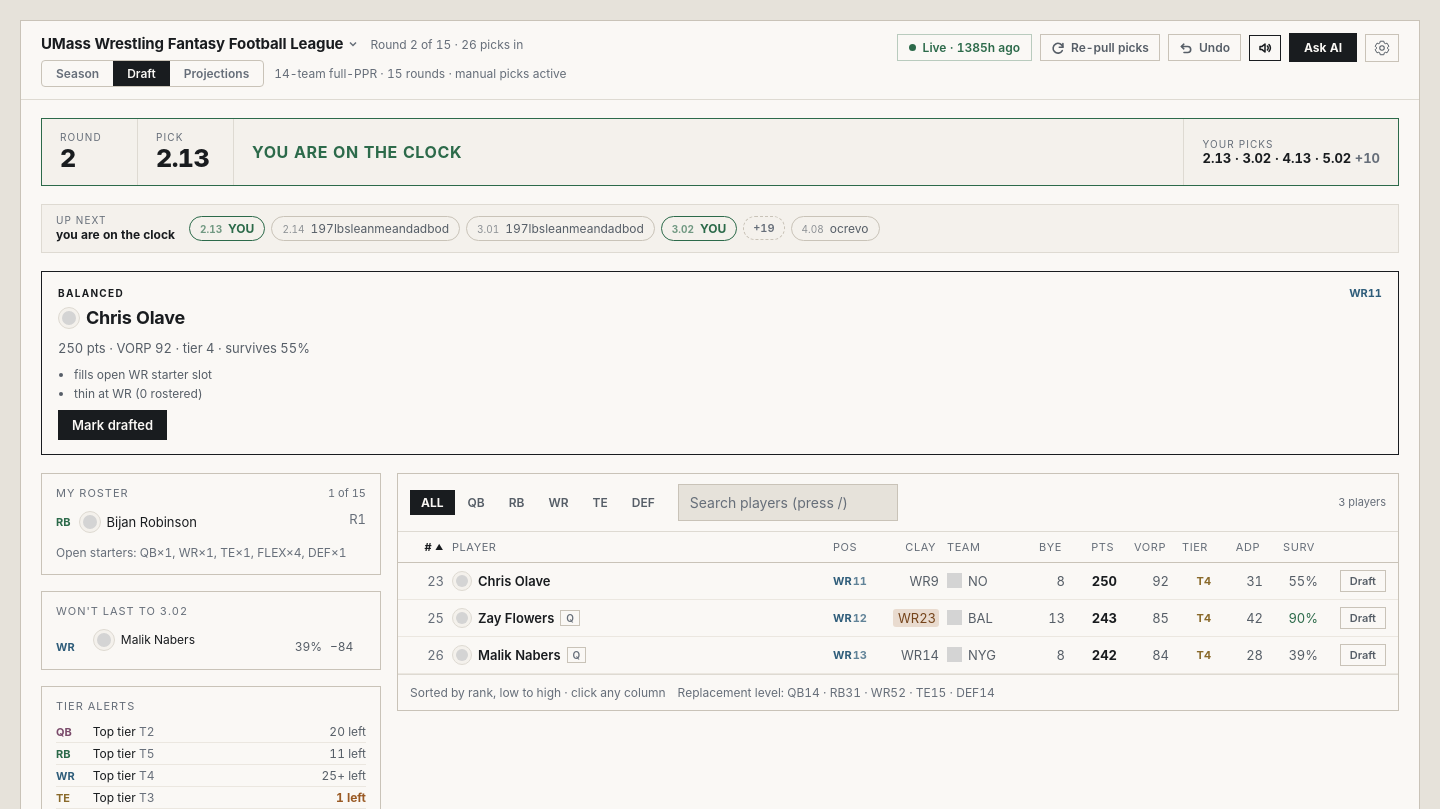
Test: the chat panel in the shell › files the answer into the conversation when the panel is left closed
Expected: the heading "UMass Wrestling Fantasy Football League" is shown, [41, 33, 358, 54]
Click the button "Ask AI" at (1323, 48), box [1289, 33, 1357, 62]
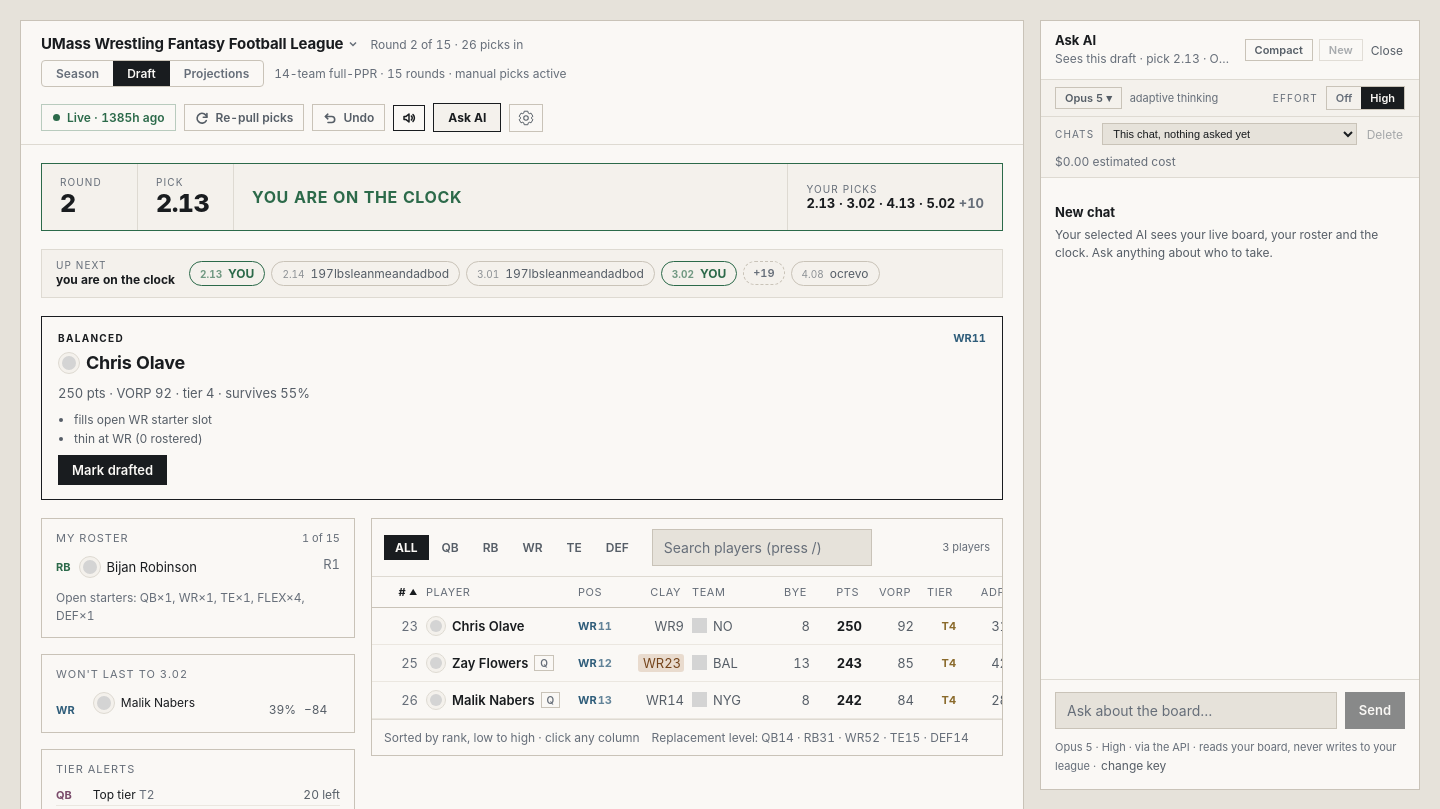
Type "Who should I take?" into the field named "Ask AI" at (1196, 710), box [1055, 692, 1337, 728]
Then press Enter
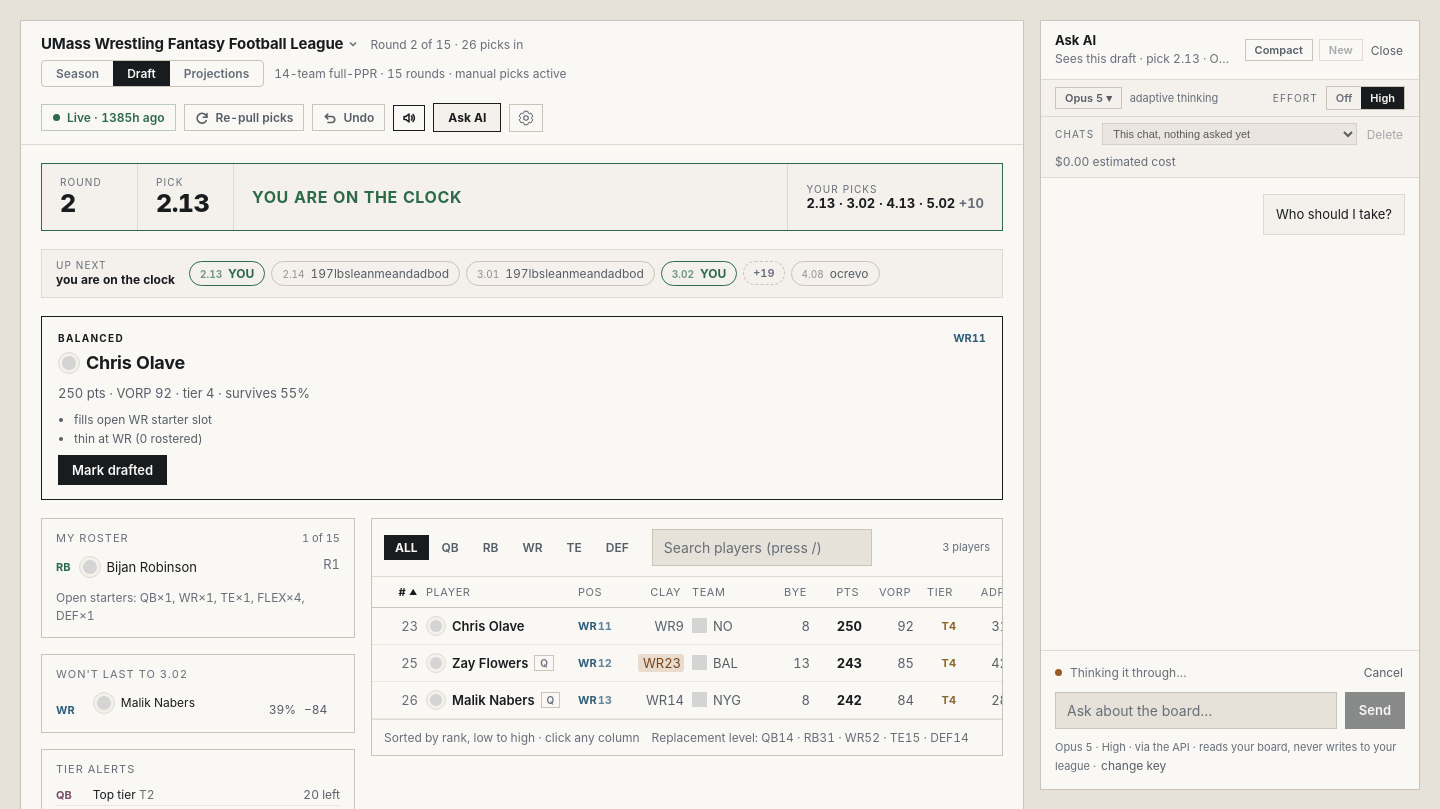
Click the button "Close" at (1387, 50), box [1369, 40, 1405, 60]
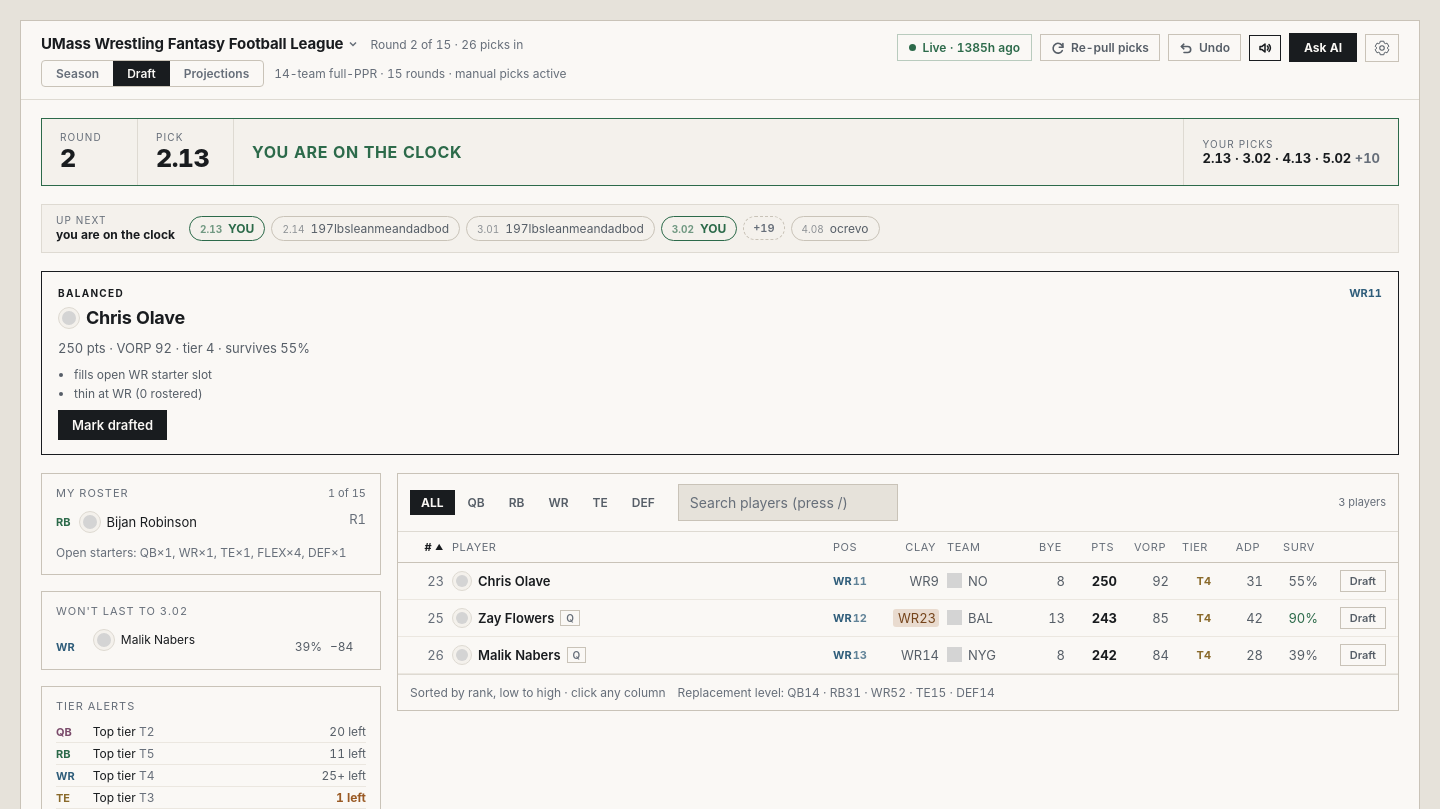
Click the button "Ask AI" at (1323, 48), box [1289, 33, 1357, 62]
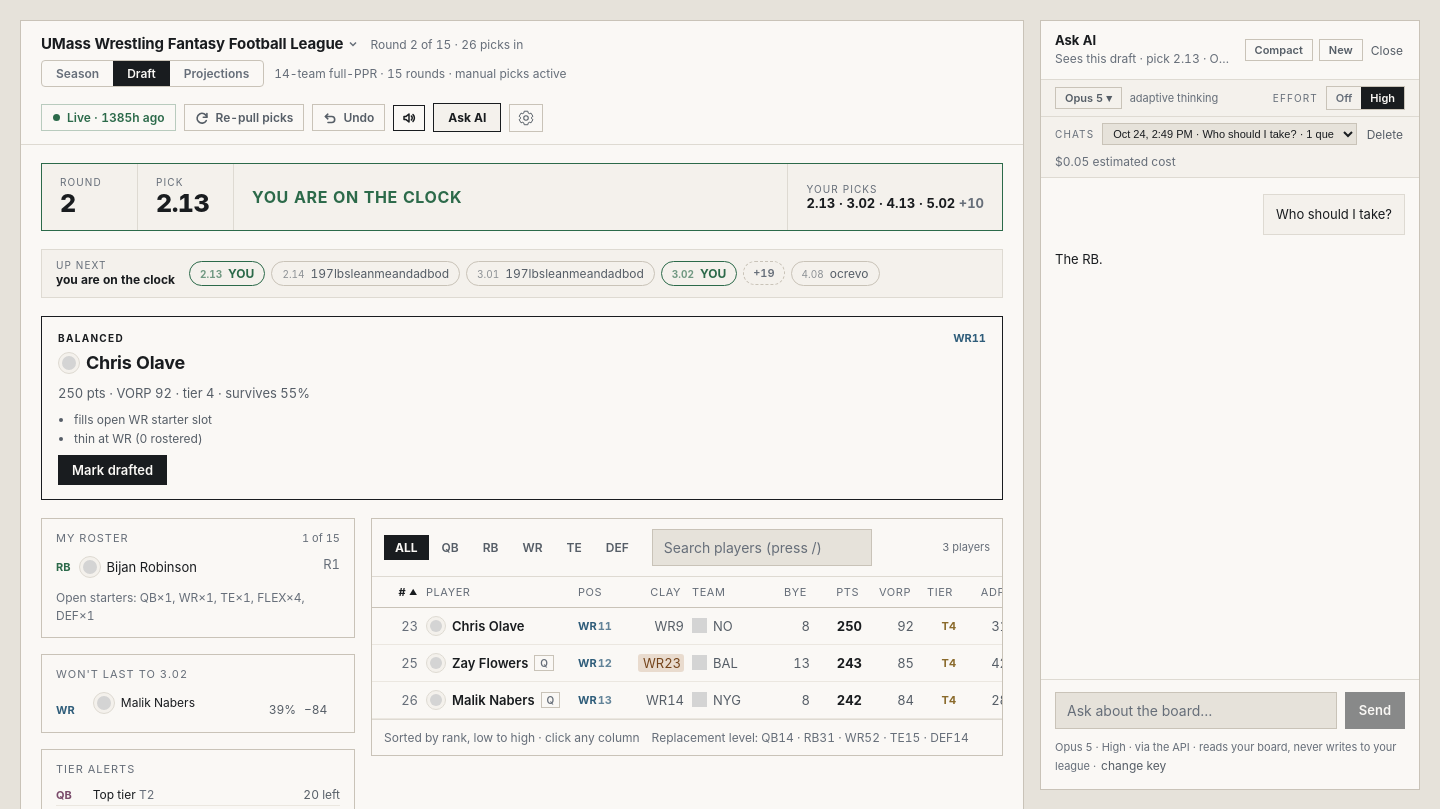
Result: the text "The RB." is shown at [1055, 251, 1102, 267]
Result: the text "$0.05 estimated cost" is shown at [1055, 153, 1176, 171]
